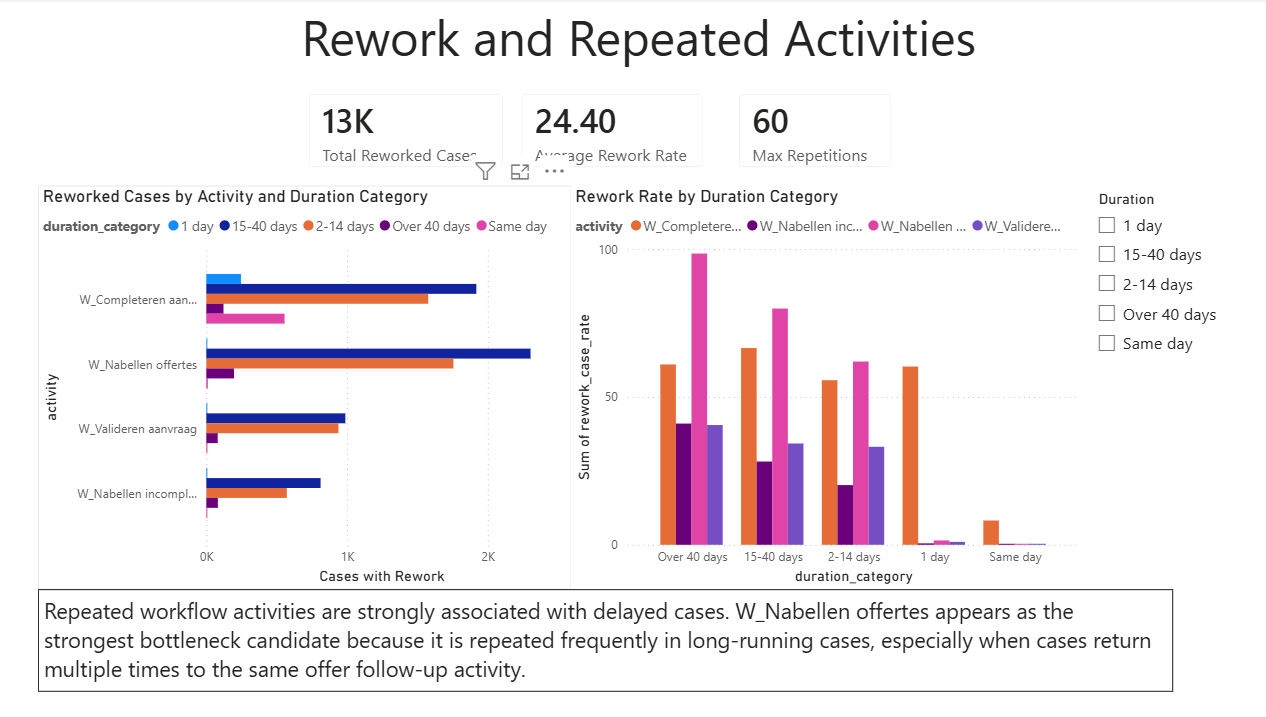

The page's visual inventory and layout, read from the dashboard file:
{"tool":"powerbi","page":{"name":"Rework Analysis","canvas":[1280,720],"ordinal":1},"visuals":[{"type":"textbox","box":[298.5,0,682.9,76.9],"z":0},{"type":"cardVisual","fields":{"Data":["rework_by_duration.Total Reworked Cases"]},"box":[298.8,77.5,225.1,107],"z":1},{"type":"cardVisual","fields":{"Data":["rework_by_duration.Average Rework Rate","rework_by_duration.Average Rework Rate"]},"box":[507.9,77.5,214,107],"z":2},{"type":"cardVisual","fields":{"Data":["rework_by_duration.Max Repetitions"]},"box":[721.9,77.5,184.5,107],"z":3},{"type":"clusteredBarChart","title":"Reworked Cases by Activity and Duration Category","fields":{"Category":["rework_by_duration.activity"],"Y":["Sum(rework_by_duration.cases_with_rework)"],"Series":["rework_by_duration.duration_category"]},"box":[49.2,184.5,523.9,397.2],"z":4},{"type":"clusteredColumnChart","title":"Rework Rate by Duration Category","fields":{"Category":["rework_by_duration.duration_category"],"Y":["Sum(rework_by_duration.rework_case_rate)"],"Series":["rework_by_duration.activity"]},"box":[573.1,184.5,506.7,397.2],"z":5},{"type":"slicer","fields":{"Values":["rework_by_duration.duration_category"]},"box":[1079.8,184.5,172.2,195.5],"z":6},{"type":"textbox","box":[49.2,581.7,1116.7,100.8],"z":7}]}

Visuals, with their boxes in screenshot pixels (x1, y1, x2, y2), scaled from the page's 1280x720 canvas onto the 1266x717 screenshot:
textbox: box(295, 0, 971, 77)
cardVisual - rework_by_duration.Total Reworked Cases: box(296, 77, 518, 184)
cardVisual - rework_by_duration.Average Rework Rate x rework_by_duration.Average Rework Rate: box(502, 77, 714, 184)
cardVisual - rework_by_duration.Max Repetitions: box(714, 77, 896, 184)
"Reworked Cases by Activity and Duration Category" clusteredBarChart: box(49, 184, 567, 579)
"Rework Rate by Duration Category" clusteredColumnChart: box(567, 184, 1068, 579)
slicer - rework_by_duration.duration_category: box(1068, 184, 1238, 378)
textbox: box(49, 579, 1153, 680)
